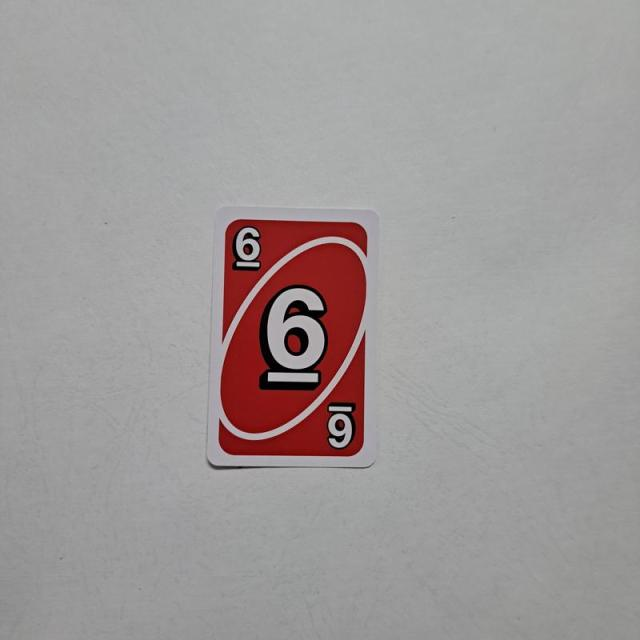Number_6: (230, 222, 263, 272)
Red_Card: (213, 210, 376, 463)
